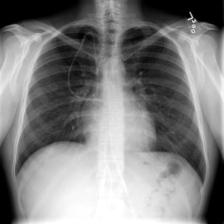normal: (8, 19, 210, 197)
